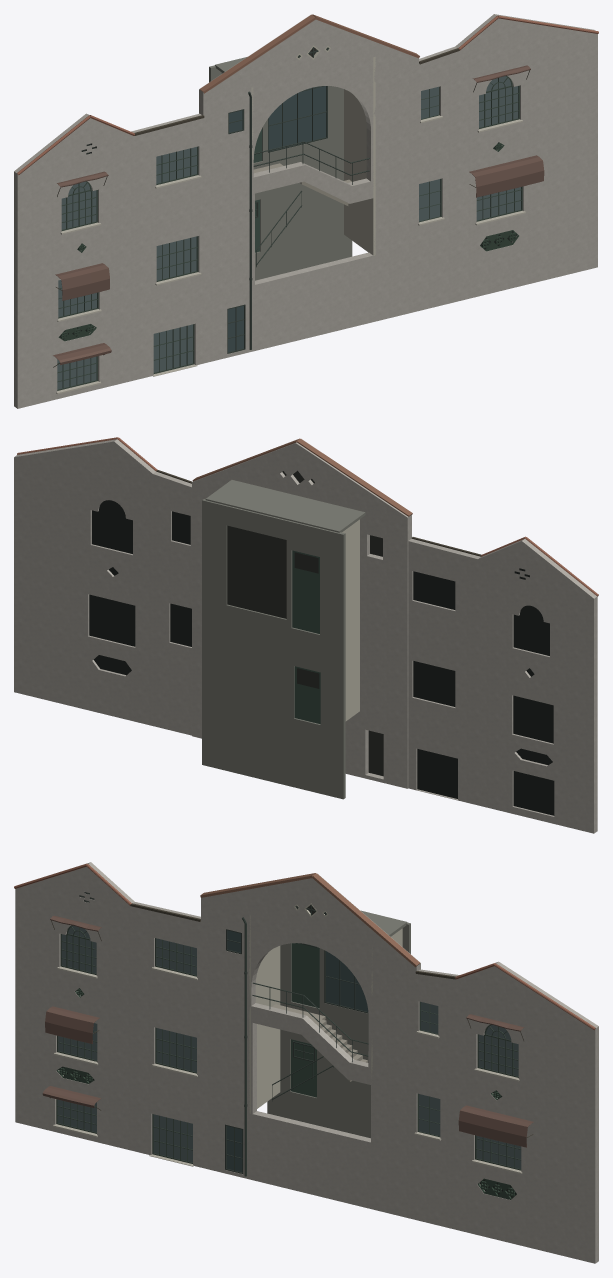
File: lod-source.glb
The picture shows the model from 3 angles, top to bottom: view 1: azimuth 30°, elevation 25°; view 2: azimuth 150°, elevation 25°; view 3: azimuth 330°, elevation 25°; orthographic projection.
Parts seen in each view (by area): view 1: 华山路823、825、827号院临街住宅三山墙与明梯; view 2: 华山路823、825、827号院临街住宅三山墙与明梯; view 3: 华山路823、825、827号院临街住宅三山墙与明梯.
Boxes of the visible parts, x1,y1,x2,y2 form: 华山路823、825、827号院临街住宅三山墙与明梯: [14, 14, 598, 408]; 华山路823、825、827号院临街住宅三山墙与明梯: [14, 437, 598, 833]; 华山路823、825、827号院临街住宅三山墙与明梯: [14, 862, 598, 1263].
Bounding box in the file's own units: 25.76 × 13.54 × 2.99.
Materials: 17 (1 with a texture image).
